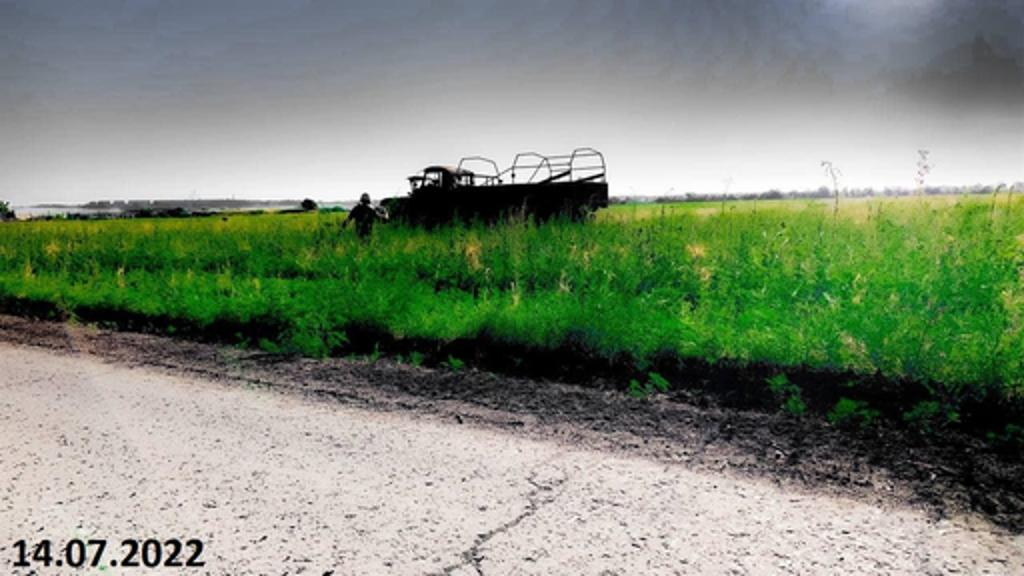TRUCK: (368, 140, 620, 238)
